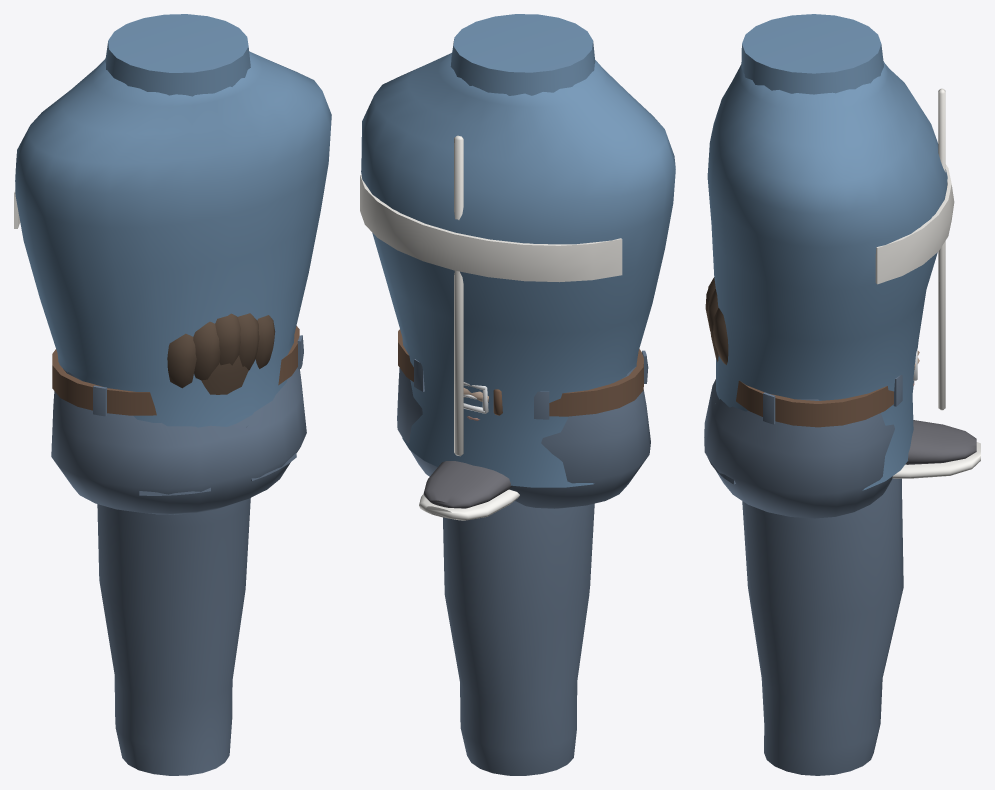
Rendered from Character_SportyYouth.fbx.
3 renders of one model, left to right at view 1: azimuth 30°, elevation 25°; view 2: azimuth 150°, elevation 25°; view 3: azimuth 270°, elevation 25°, orthographic.
Parts seen in each view (by area): view 1: Part_Chest, Part_L_Thigh, Part_Pelvis, Part_Head; view 2: Part_Chest, Part_L_Thigh, Part_Pelvis, Part_L_Foot; view 3: Part_Chest, Part_L_Thigh, Part_Pelvis, Part_L_Foot, Part_Head.
Part boxes in pixels (bbox=[...]): Part_Chest: bbox=[14, 14, 331, 427]; Part_L_Thigh: bbox=[97, 498, 250, 775]; Part_Pelvis: bbox=[51, 326, 306, 514]; Part_Head: bbox=[167, 313, 275, 394]; Part_Chest: bbox=[360, 14, 675, 487]; Part_L_Thigh: bbox=[443, 501, 594, 775]; Part_Pelvis: bbox=[397, 329, 650, 508]; Part_L_Foot: bbox=[419, 461, 519, 520]; Part_Chest: bbox=[707, 14, 954, 490]; Part_L_Thigh: bbox=[742, 478, 903, 775]; Part_Pelvis: bbox=[704, 349, 917, 518]; Part_L_Foot: bbox=[892, 420, 980, 478]; Part_Head: bbox=[705, 277, 919, 385].
Size of the model in its own units: 0.4255 by 0.98 by 0.3451.
